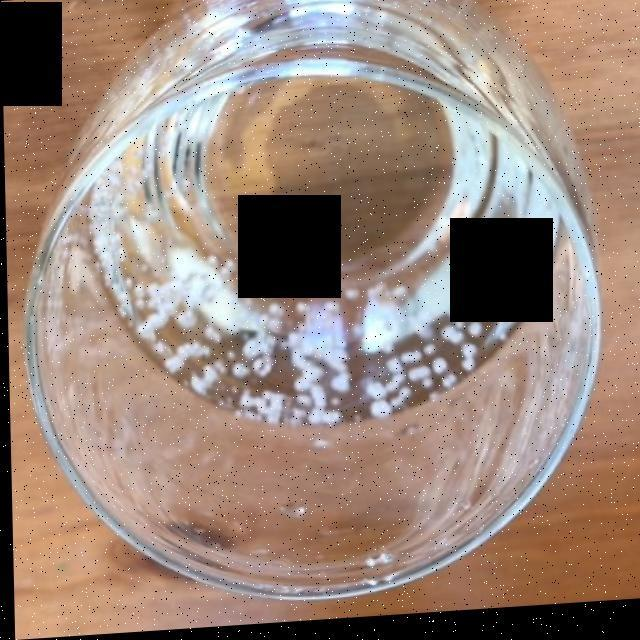water: (94, 54, 558, 424)
